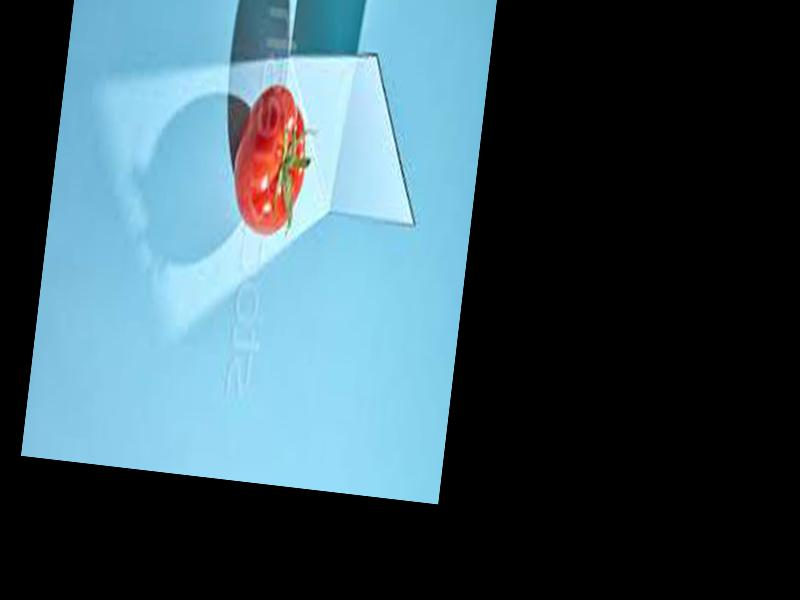Tomato: (226, 80, 314, 238)
